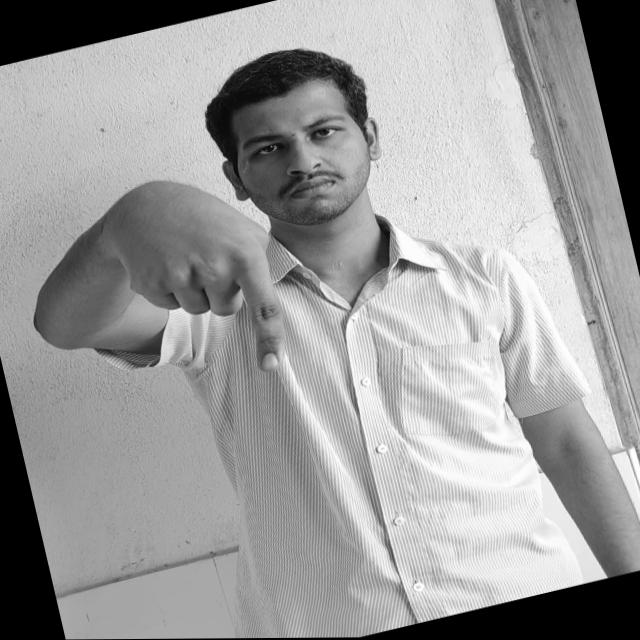Now: (102, 166, 299, 404)
